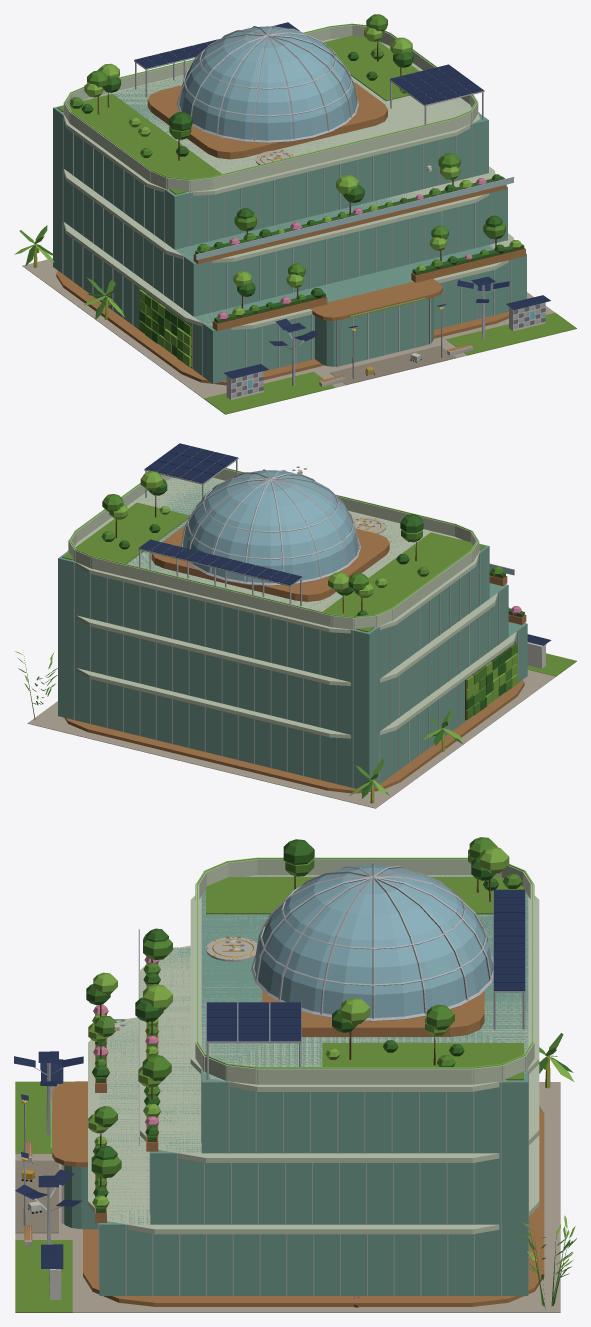
File: shop_5.glb
3 renders of one model, top to bottom at view 1: azimuth 30°, elevation 25°; view 2: azimuth 150°, elevation 25°; view 3: azimuth 270°, elevation 25°, orthographic. The views are drawn at different scales.
Visible parts, largest first — view 1: body, windows; view 2: body, windows; view 3: body, windows.
Part boxes in pixels (x1,y1,x2,y2): body: (14,14,576,414); windows: (64,23,534,388); body: (15,443,576,808); windows: (69,468,546,644); body: (14,837,576,1312); windows: (21,857,533,1279).
Size of the model in its own units: 34.88 by 20.96 by 32.94.
